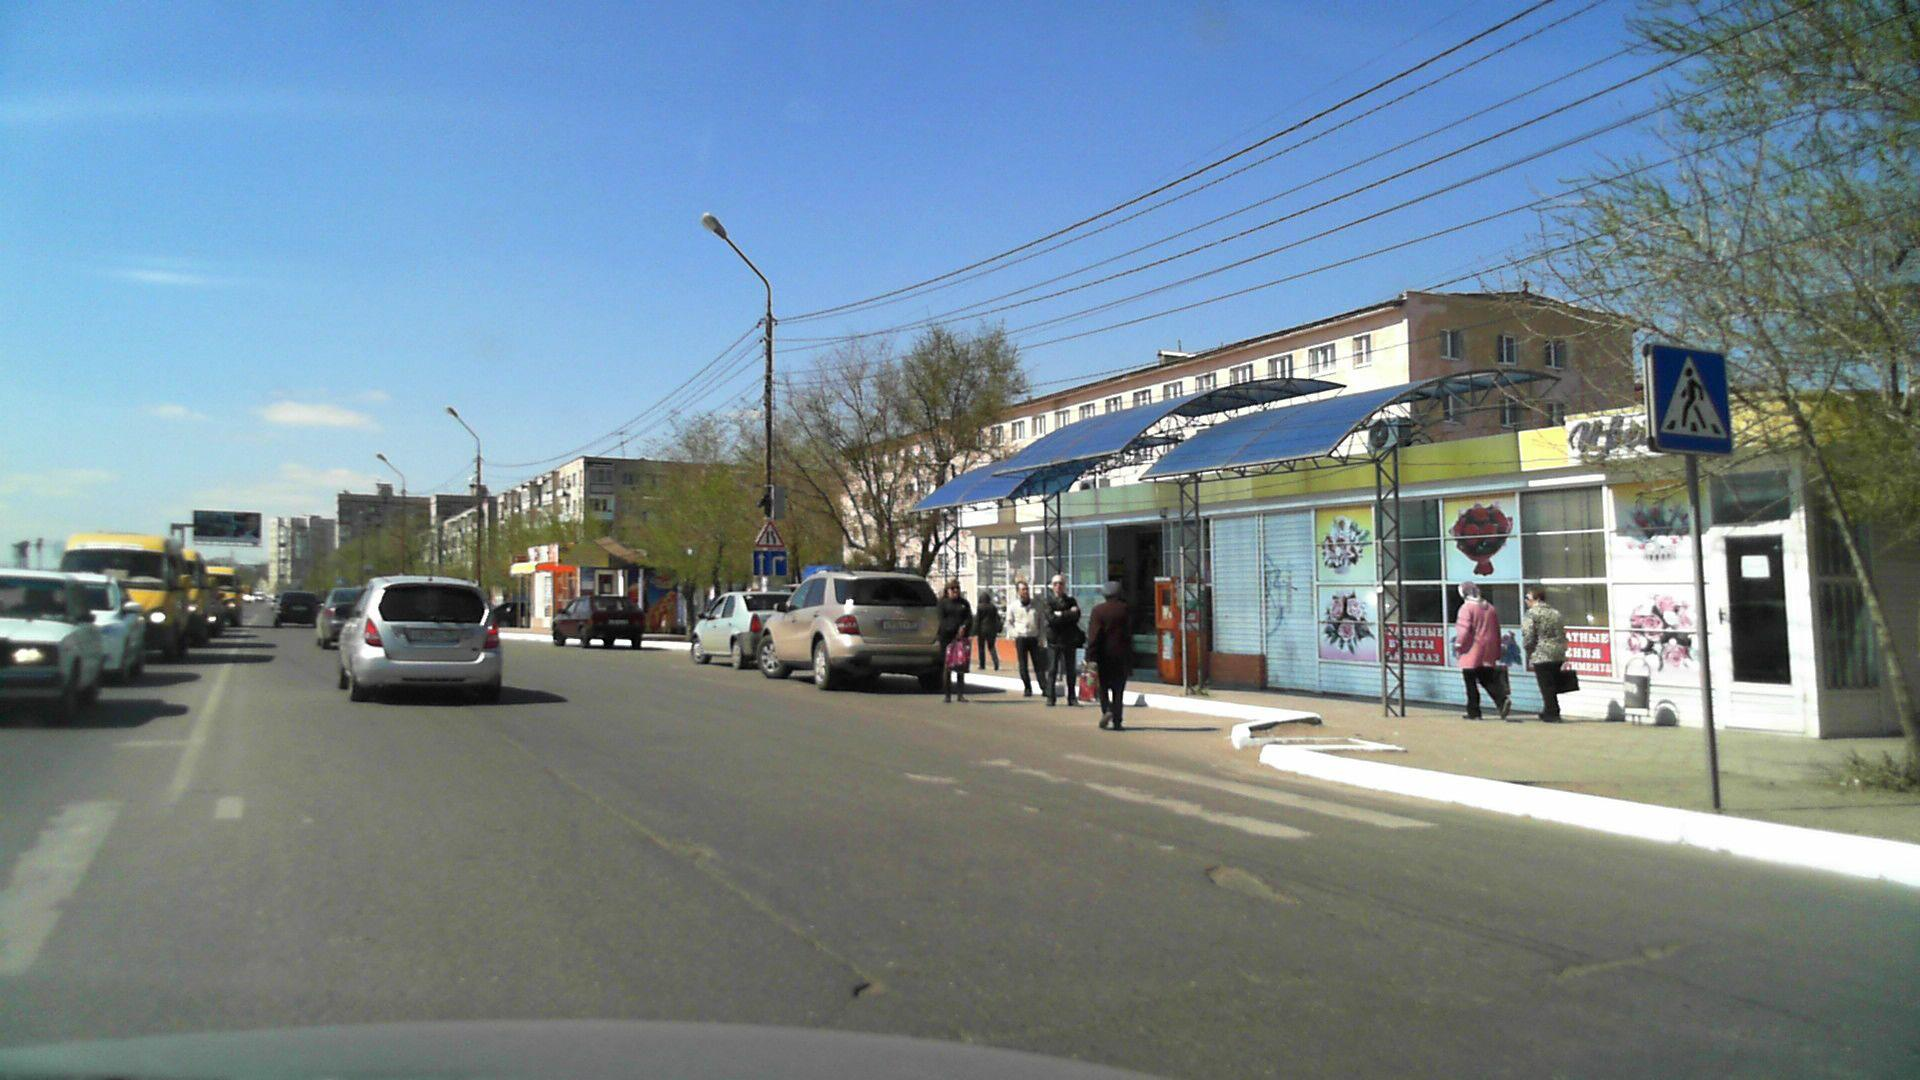1_20_2: (754, 522, 786, 547)
5_15_1: (752, 550, 787, 578)
5_19_1: (1644, 343, 1733, 455)
